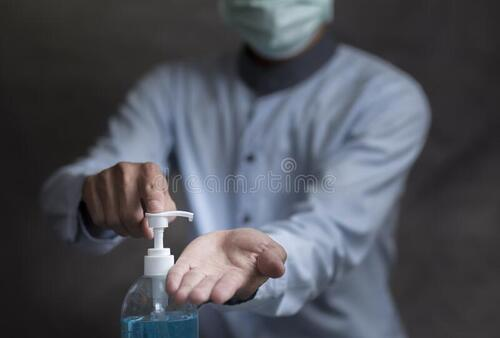sanitizer: (119, 205, 202, 334)
